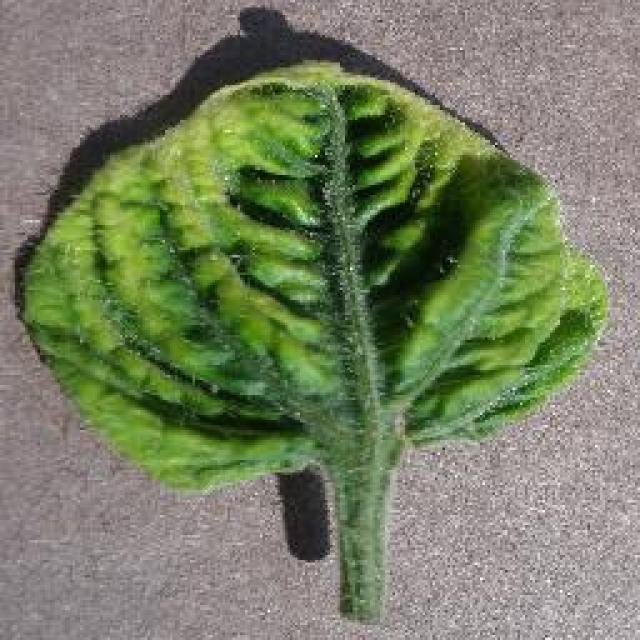Tomato yellow virus leaf: (17, 58, 605, 490)
